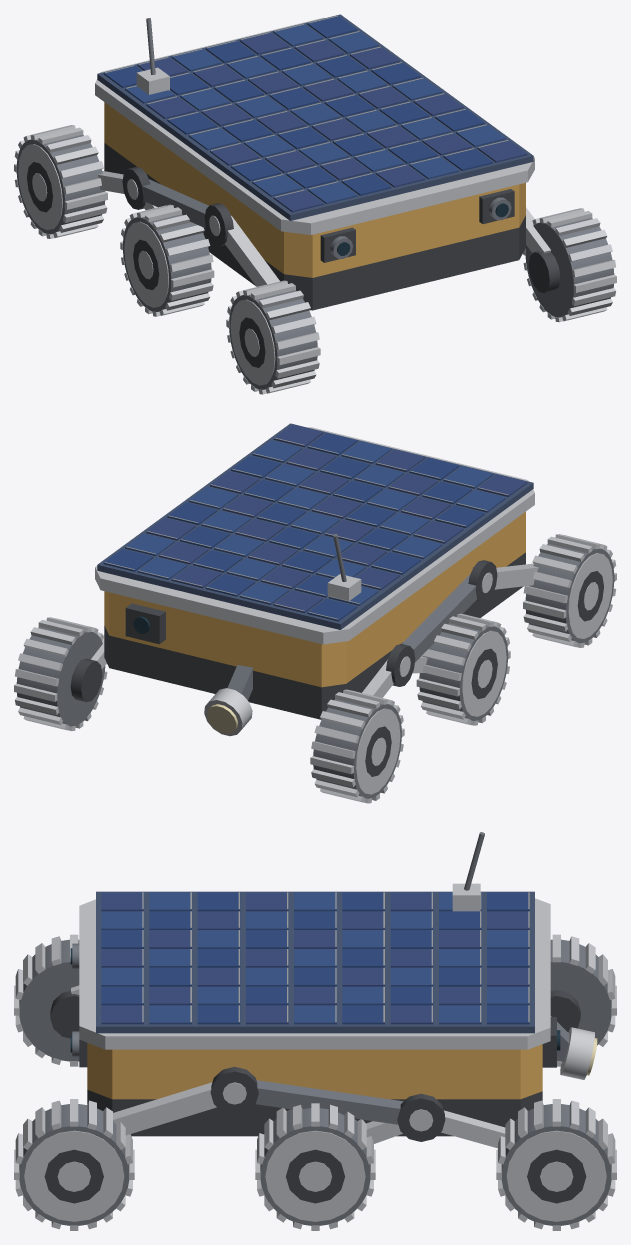
Rendered from sojourner.glb.
3 views of the same model, one above another, from view 1: azimuth 30°, elevation 25°; view 2: azimuth 150°, elevation 25°; view 3: azimuth 270°, elevation 25° (orthographic). The views are drawn at different scales.
Visible parts, largest first — view 1: Sojourner | rover de seis ruedas; view 2: Sojourner | rover de seis ruedas; view 3: Sojourner | rover de seis ruedas.
Boxes of the visible parts, x1,y1,x2,y2 form: Sojourner | rover de seis ruedas: (14,14,616,394); Sojourner | rover de seis ruedas: (14,423,616,803); Sojourner | rover de seis ruedas: (14,832,616,1230).
Size of the model in its own units: 0.48 by 0.3007 by 0.65.
